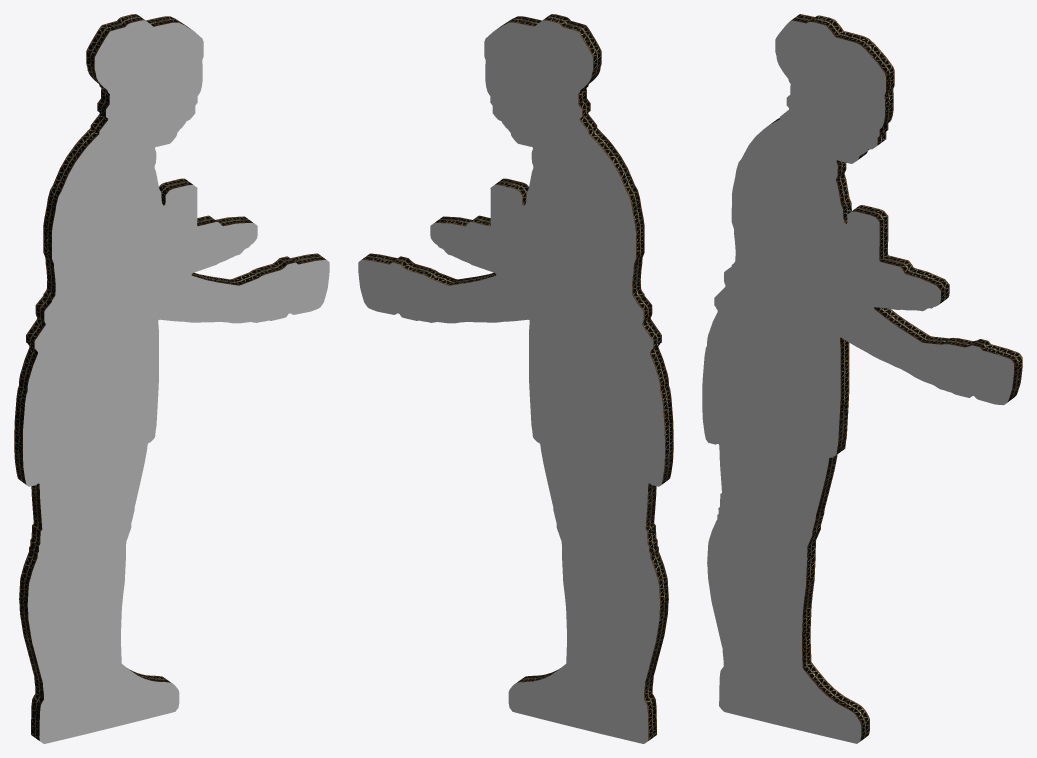
File: NPC_Cafe_worker_waitress.FBX
3 renders of one model, left to right at view 1: azimuth 30°, elevation 25°; view 2: azimuth 150°, elevation 25°; view 3: azimuth 330°, elevation 25°, orthographic.
Parts seen in each view (by area): view 1: NPC_6_step2; view 2: NPC_6_step2; view 3: NPC_6_step2.
Part boxes in pixels (<box>): NPC_6_step2: <box>14,14,329,743</box>; NPC_6_step2: <box>358,14,673,743</box>; NPC_6_step2: <box>702,14,1022,743</box>.
Bounding box in the file's own units: 30.21 × 65.89 × 1.48.
